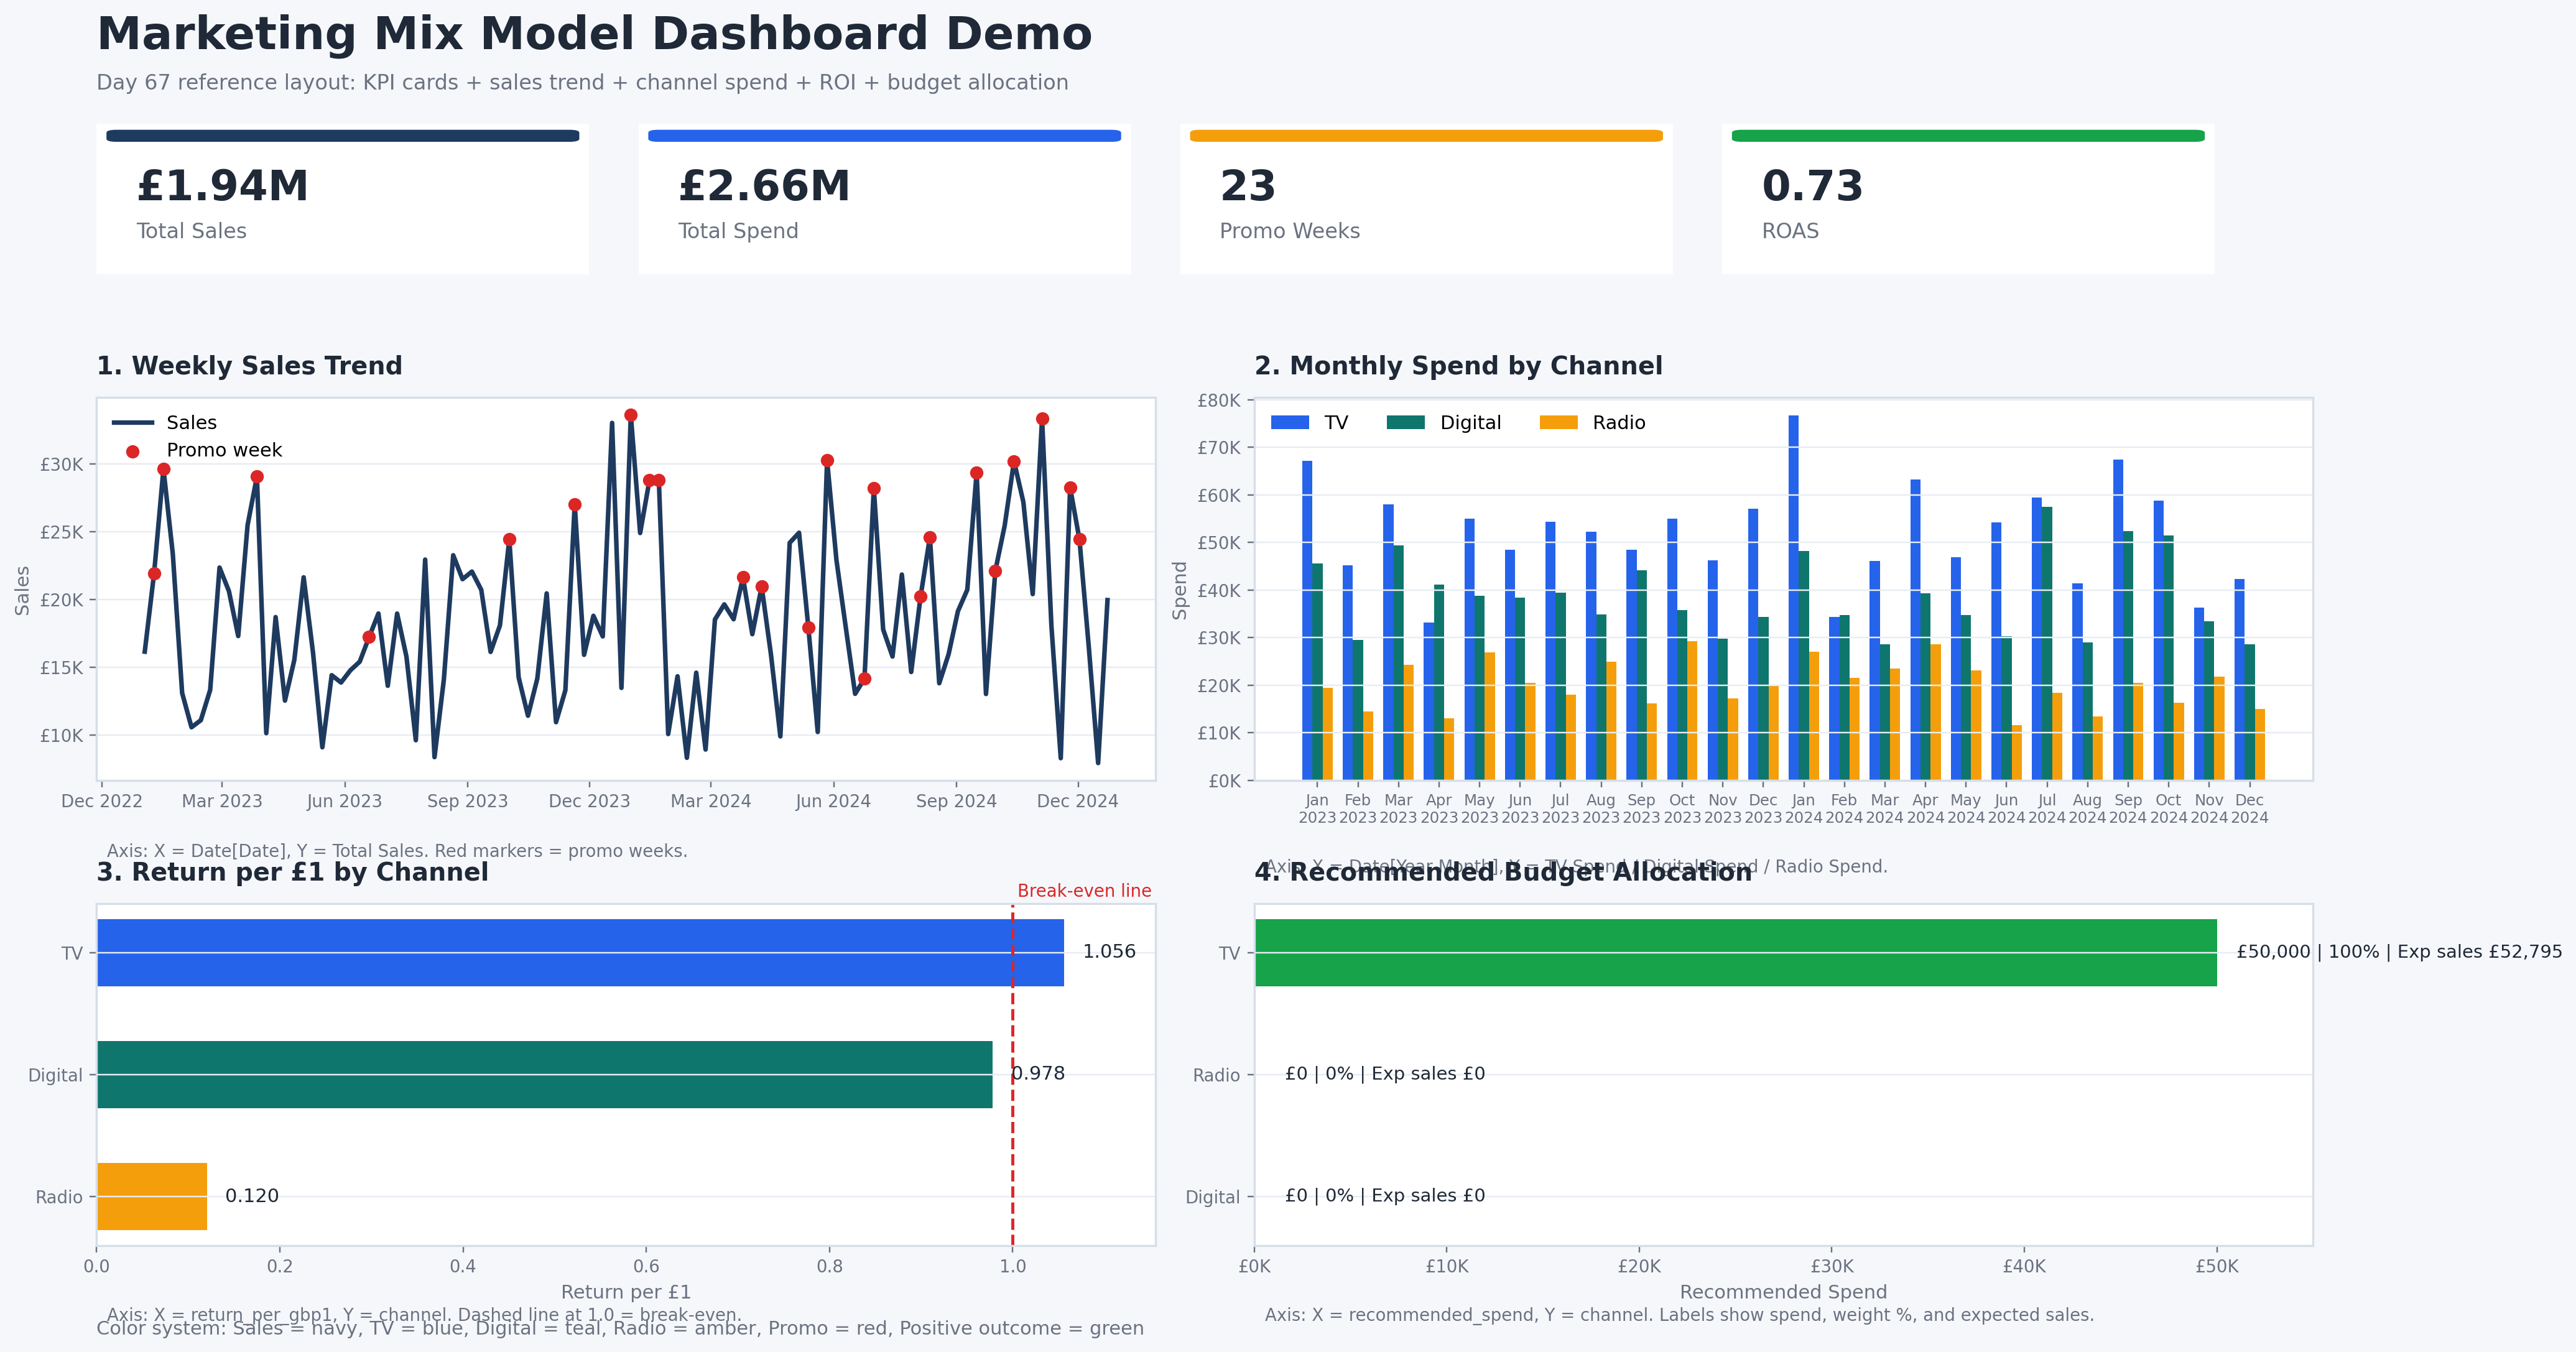

What the dashboard file says about the page in this screenshot:
{"tool":"powerbi","page":{"name":"Executive Overview","canvas":[1280,720],"ordinal":0},"visuals":[{"type":"cardVisual","title":"Total Revenue","fields":{"Data":["marketing_data_powerbi.Total Revenue Card Display"]},"box":[5.1,86.7,300.9,224.4],"z":0},{"type":"cardVisual","title":"Total Spend","fields":{"Data":["marketing_data_powerbi.Total Spend"]},"box":[325.5,86.7,299.6,224.4],"z":1000},{"type":"cardVisual","title":"Weeks on Promotion","fields":{"Data":["marketing_data_powerbi.Promo Weeks"]},"box":[965.1,86.7,299.6,224.4],"z":2000},{"type":"textbox","box":[439.4,0,644.6,85.7],"z":3000},{"type":"lineChart","title":"Weekly Revenue Trend","fields":{"Category":["marketing_data_powerbi.week"],"Y":["Sum(marketing_data_powerbi.sales)"]},"box":[5.1,328.9,790.4,372.3],"z":4000},{"type":"clusteredColumnChart","title":"Monthly Spend by Channel","fields":{"Category":["Date.Month"],"Y":["marketing_data_powerbi.TV Spend","Sum(marketing_data_powerbi.radio_spend)","marketing_data_powerbi.Digital Spend"]},"box":[805.7,328.9,459,372.3],"z":5000},{"type":"cardVisual","title":"ROAS","fields":{"Data":["marketing_data_powerbi.ROAS"]},"box":[644.7,86.7,300.9,224.4],"z":6000}]}

Visuals, with their boxes on the page's 1280x720 design canvas (x1, y1, x2, y2). These are canvas units, not pixel positions in the 2576x1352 screenshot, which may show the page scaled, cropped or inside an application window:
"Total Revenue" cardVisual: 5, 87, 306, 311
"Total Spend" cardVisual: 326, 87, 625, 311
"Weeks on Promotion" cardVisual: 965, 87, 1265, 311
textbox: 439, 0, 1084, 86
"Weekly Revenue Trend" lineChart: 5, 329, 796, 701
"Monthly Spend by Channel" clusteredColumnChart: 806, 329, 1265, 701
"ROAS" cardVisual: 645, 87, 946, 311
